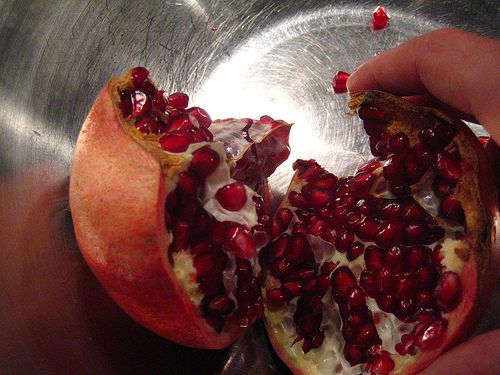pomogranate: (68, 68, 487, 374)
